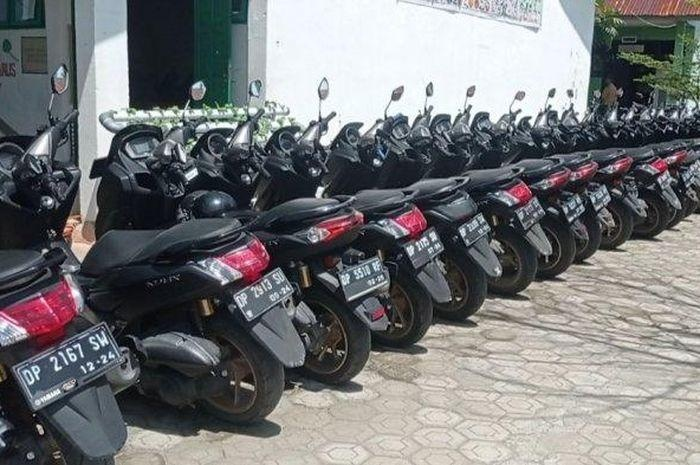plate: (20, 320, 129, 410), (236, 266, 300, 323), (341, 254, 394, 301)
